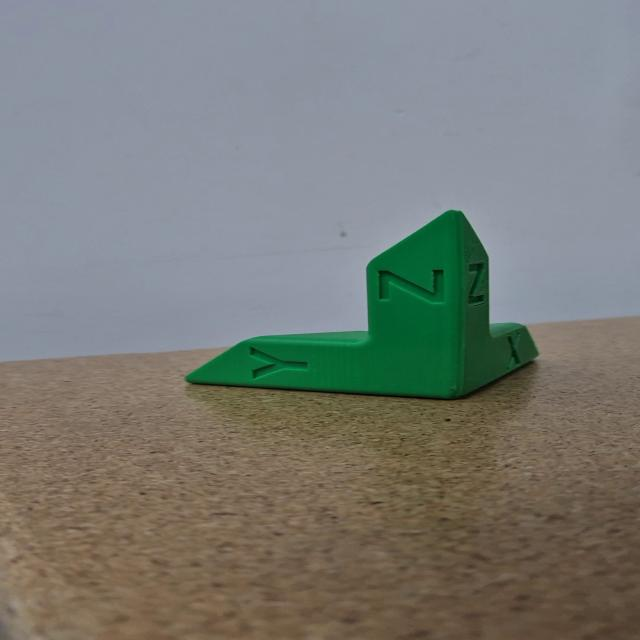objects: (175, 204, 545, 402)
